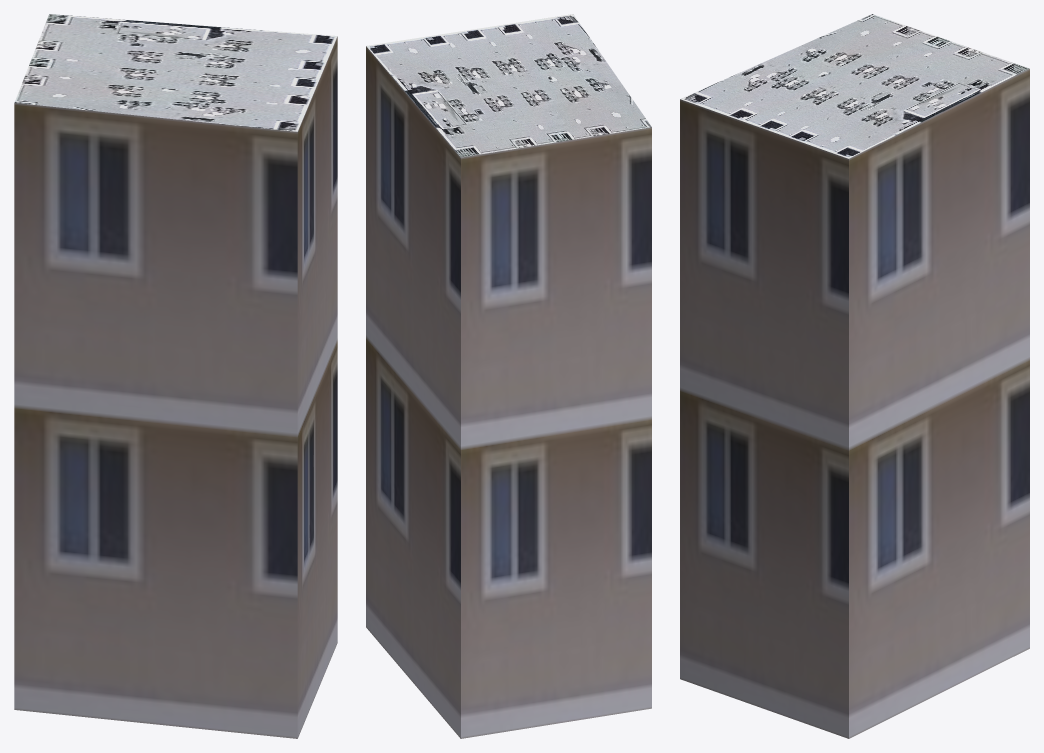
Rendered from ResTex__1421.fbx.
3 views of the same model, side by side, from view 1: azimuth 30°, elevation 25°; view 2: azimuth 150°, elevation 25°; view 3: azimuth 270°, elevation 25° (orthographic). The views are drawn at different scales.
Parts seen in each view (by area): view 1: CityEngineMaterial_21_m, CityEngineMaterial_8_m; view 2: CityEngineMaterial_21_m, CityEngineMaterial_8_m; view 3: CityEngineMaterial_21_m, CityEngineMaterial_8_m.
Part boxes in pixels (x1,y1,x2,y2): CityEngineMaterial_21_m: [14, 36, 337, 738]; CityEngineMaterial_8_m: [14, 14, 337, 131]; CityEngineMaterial_21_m: [366, 46, 651, 738]; CityEngineMaterial_8_m: [366, 14, 651, 157]; CityEngineMaterial_21_m: [680, 68, 1029, 738]; CityEngineMaterial_8_m: [680, 14, 1029, 158].
Bounding box in the file's own units: 3.22 × 6 × 3.28.
2 materials, 2 textured.
